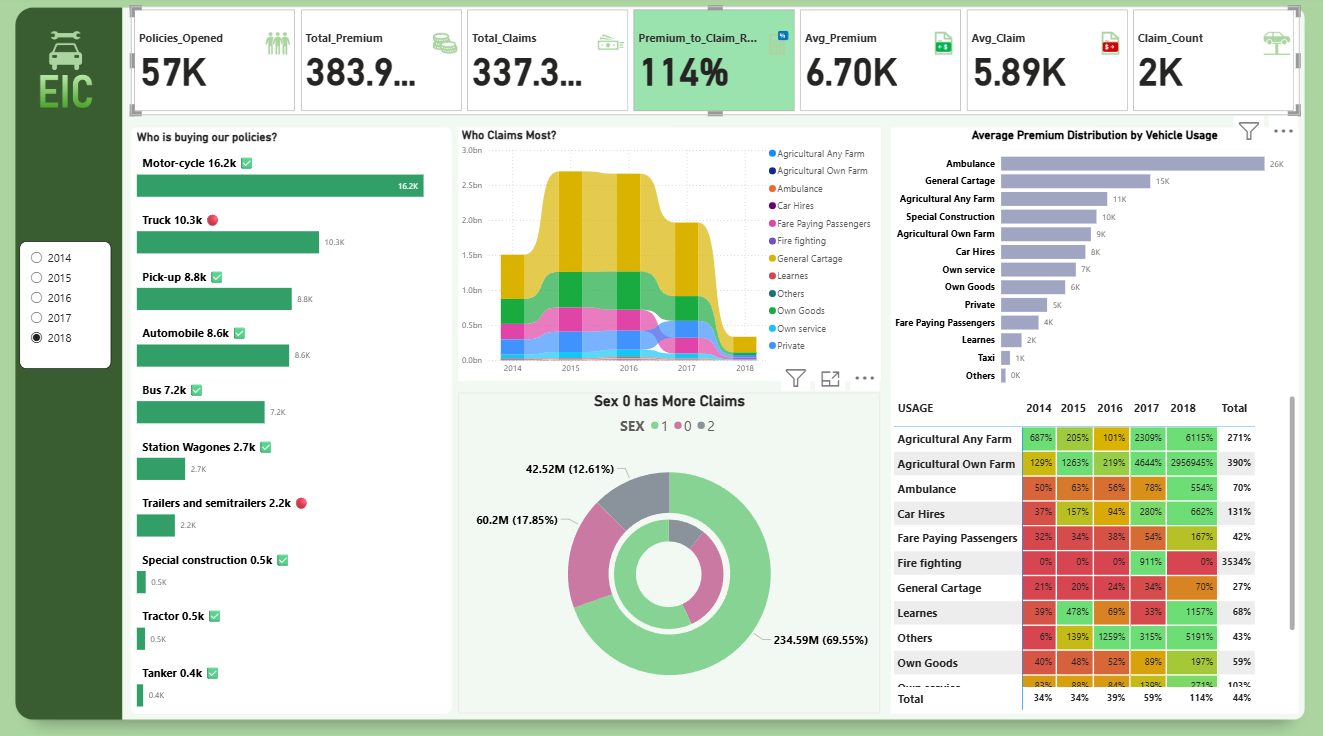

Layout of this report page (visuals, bound fields, positions):
{"tool":"powerbi","page":{"name":"Report","canvas":[1920,1080],"ordinal":1},"visuals":[{"type":"cardVisual","fields":{"Data":["_Measures.Policies_Opened","_Measures.Total_Premium","_Measures.Total_Claims","_Measures.Premium_to_Claim_Ratio","_Measures.Avg_Premium","_Measures.Avg_Claim2","_Measures.Claim_Count"]},"box":[193.6,16.3,1692,157.4],"z":0},{"type":"slicer","fields":{"Values":["Calendar.Year"]},"box":[32.7,355.8,132.7,184.6],"z":1000},{"type":"clusteredBarChart","title":"Who is buying our policies?","fields":{"Category":["Policies.TYPE_VEHICLE"],"Y":["_Measures.Dummy Measure","_Measures.Policies_Opened"]},"box":[193.6,191.8,465.1,848.7],"z":2000},{"type":"ribbonChart","title":"Who Claims Most?","fields":{"Category":["Calendar.Year"],"Y":["_Measures.Total_Claims"],"Series":["Policies.USAGE"]},"box":[667.8,191.8,611.7,367.4],"z":3000},{"type":"donutChart","title":"Sex 0 has More Claims","fields":{"Category":["Policies.SEX"],"Y":["_Measures.Total_Claims"]},"box":[667.8,575.5,611.7,465.1],"z":4000},{"type":"donutChart","fields":{"Category":["Policies.SEX"],"Y":["_Measures.Policies_Opened"]},"box":[828.8,734.7,287.7,208.1],"z":5000},{"type":"barChart","title":"Average Premium Distribution by Vehicle Usage","fields":{"Y":["_Measures.Avg_Premium"],"Category":["Policies.USAGE"]},"box":[1294.7,191.4,590.7,384.9],"z":6000},{"type":"pivotTable","fields":{"Rows":["Policies.USAGE"],"Columns":["Calendar.Year"],"Values":["_Measures.Premium_to_Claim_Ratio"]},"box":[1294.7,576.3,590.7,465.2],"z":7000},{"type":"image","box":[32.9,16.5,133.8,195.5],"z":8000}]}

Visuals, with their boxes in screenshot pixels (x1, y1, x2, y2), scaled from the page's 1920x1080 canvas onto the 1323x736 screenshot:
cardVisual - _Measures.Policies_Opened x _Measures.Total_Premium: (133, 11, 1299, 118)
slicer - Calendar.Year: (23, 242, 114, 368)
"Who is buying our policies?" clusteredBarChart: (133, 131, 454, 709)
"Who Claims Most?" ribbonChart: (460, 131, 882, 381)
"Sex 0 has More Claims" donutChart: (460, 392, 882, 709)
donutChart - Policies.SEX x _Measures.Policies_Opened: (571, 501, 769, 643)
"Average Premium Distribution by Vehicle Usage" barChart: (892, 130, 1299, 393)
pivotTable - Policies.USAGE x Calendar.Year: (892, 393, 1299, 710)
image: (23, 11, 115, 144)
